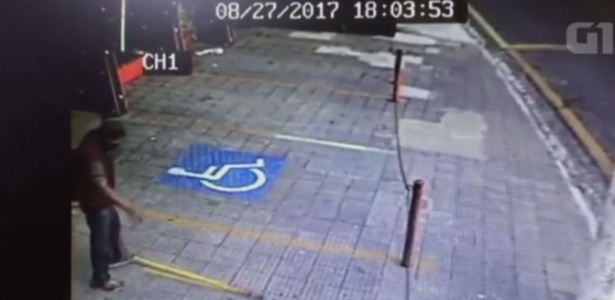Humano: (71, 114, 142, 292)
